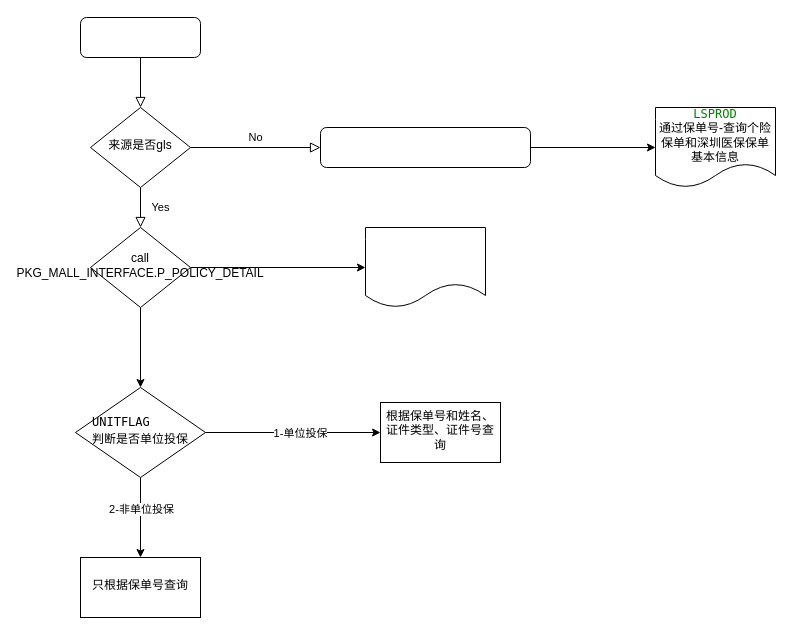
Image size: 793x635. Some labels were removed from this diagram. The box of each missing label's shape, as (x1, y1, x2, y2) in pixels:
id="queryPolicyDetailByPolicyCode": (320, 126, 530, 168)
保单查询: (80, 16, 200, 58)
通过保单号和用户信息-查询团单保险基本信息: (364, 226, 486, 308)
